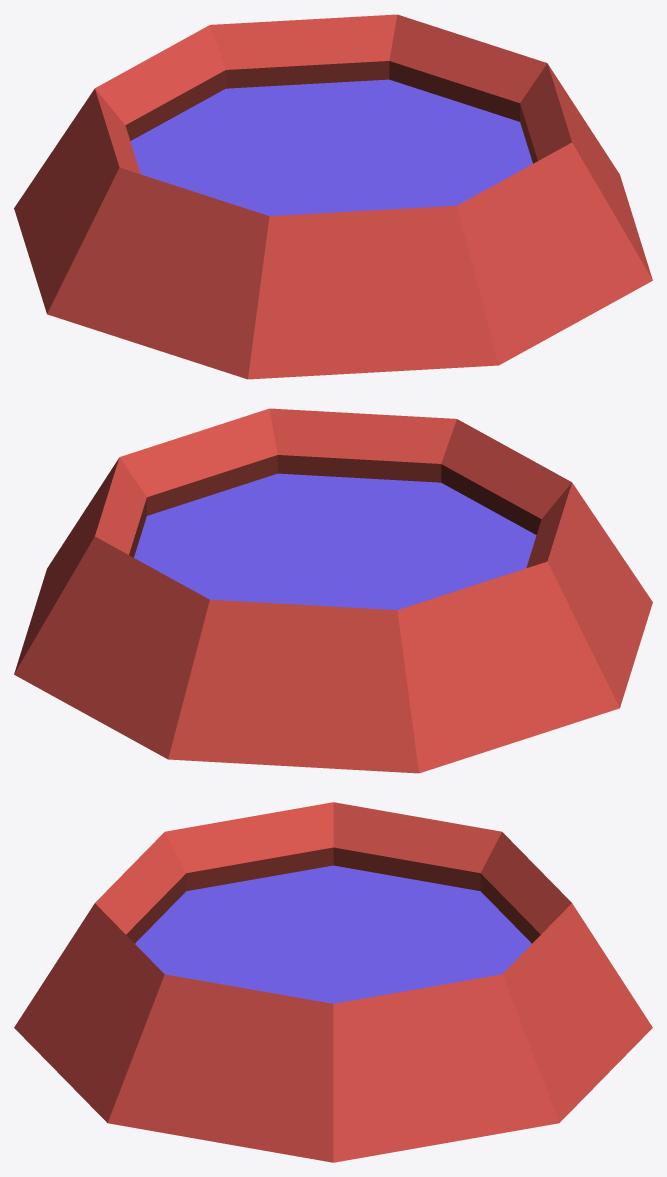
File: bowl.dae
3 views of the same model, one above another, from view 1: azimuth 30°, elevation 25°; view 2: azimuth 150°, elevation 25°; view 3: azimuth 270°, elevation 25° (orthographic). The views are drawn at different scales.
Visible parts, largest first — view 1: bowl; view 2: bowl; view 3: bowl.
Part boxes in pixels (x1,y1,x2,y2): bowl: [14, 14, 652, 379]; bowl: [14, 408, 652, 773]; bowl: [14, 802, 652, 1162].
Size of the model in its own units: 0.6453 by 0.6453 by 0.139.
Materials: 1 (1 with a texture image).
